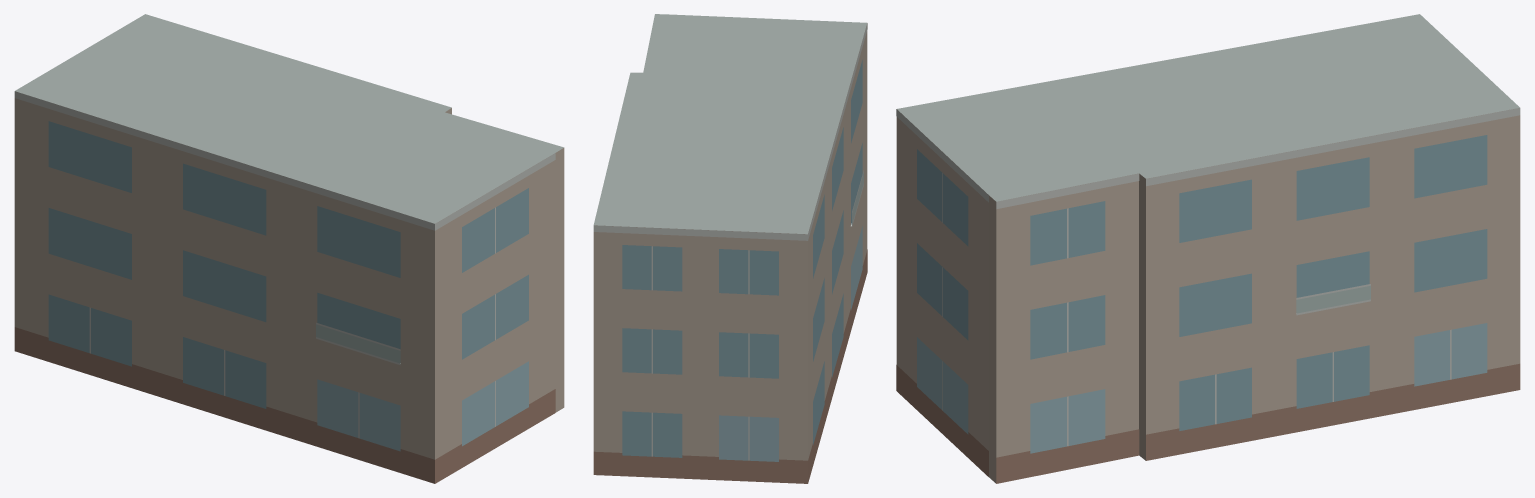
File: survey-upis-33003395.glb
3 renders of one model, left to right at view 1: azimuth 30°, elevation 25°; view 2: azimuth 150°, elevation 25°; view 3: azimuth 270°, elevation 25°, orthographic. The views are drawn at different scales.
Visible parts, largest first — view 1: survey-upis-33003395.tmp; view 2: survey-upis-33003395.tmp; view 3: survey-upis-33003395.tmp.
Boxes of the visible parts, <box> form: survey-upis-33003395.tmp: <box>14,14,564,483</box>; survey-upis-33003395.tmp: <box>593,14,867,483</box>; survey-upis-33003395.tmp: <box>896,14,1520,483</box>.
Size of the model in its own units: 13.07 by 9.15 by 18.34.
